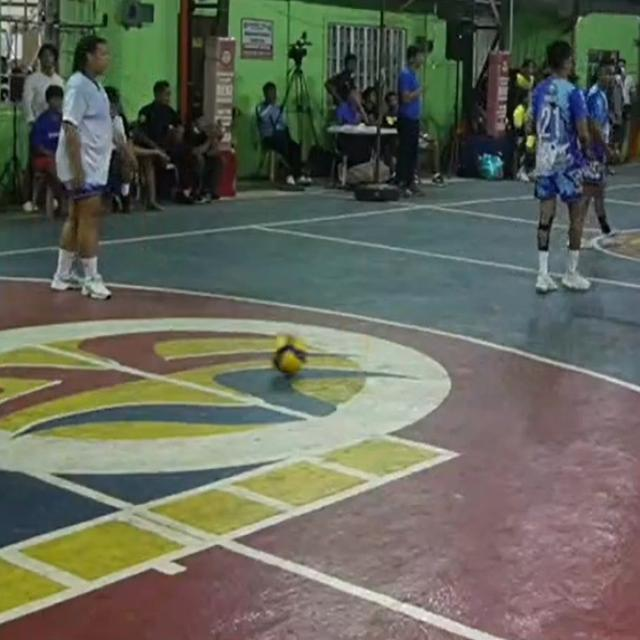volleyball: (271, 328, 307, 377)
